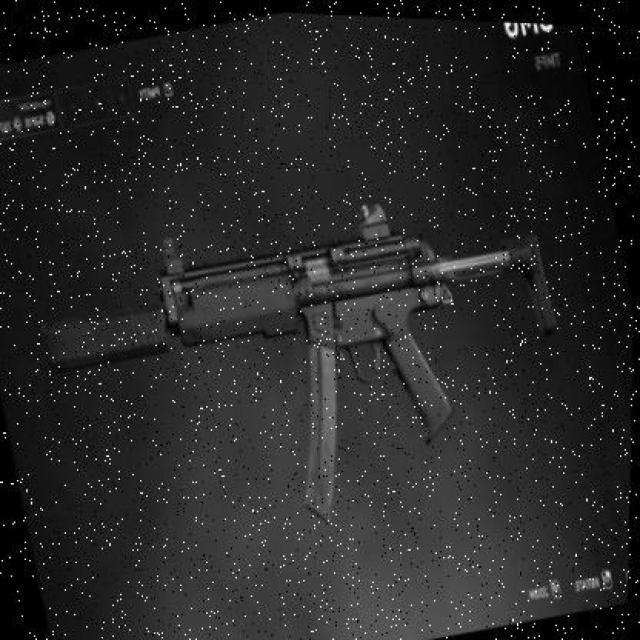weapon: (46, 200, 568, 522)
